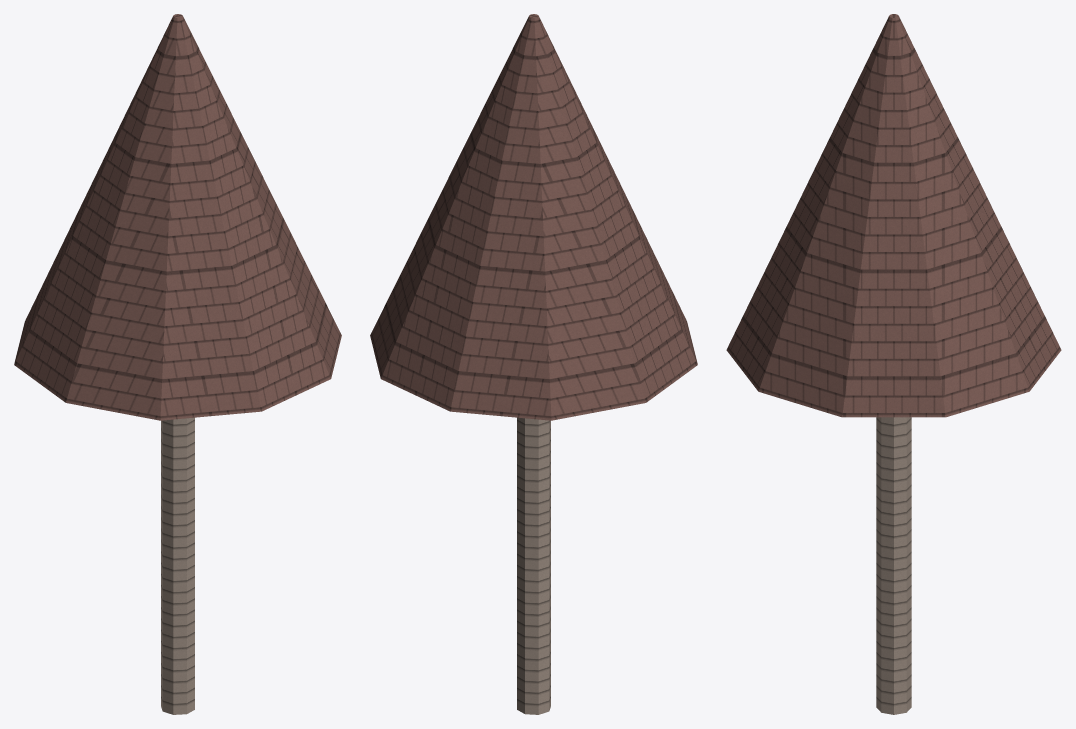
The model's file is tree_norway_white_spruce.glb.
The picture shows the model from 3 angles, left to right: view 1: azimuth 30°, elevation 25°; view 2: azimuth 150°, elevation 25°; view 3: azimuth 270°, elevation 25°; orthographic projection.
Visible parts, largest first — view 1: tree_norway_white_spruce-col; view 2: tree_norway_white_spruce-col; view 3: tree_norway_white_spruce-col.
Part boxes in pixels (<box>): tree_norway_white_spruce-col: <box>14,14,341,714</box>; tree_norway_white_spruce-col: <box>370,14,697,714</box>; tree_norway_white_spruce-col: <box>726,14,1061,714</box>.
Size of the model in its own units: 3.23 by 7.74 by 3.4.
2 materials, 2 textured.
